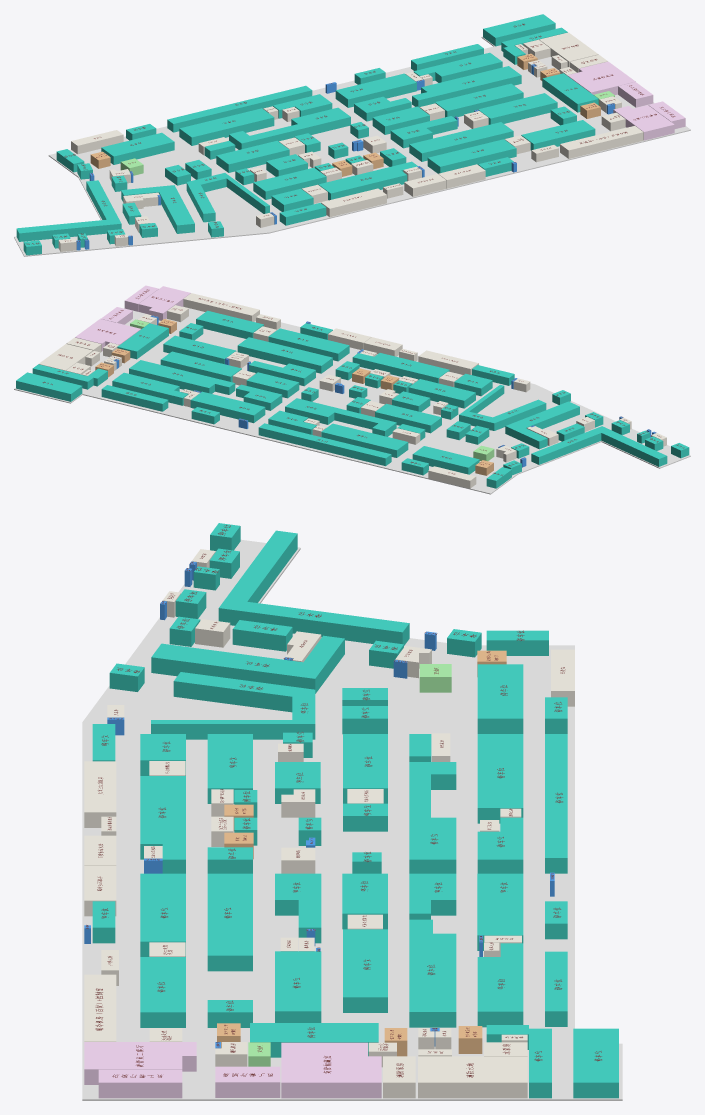
The model's file is 广州万达_-2F.fbx.
3 renders of one model, top to bottom at view 1: azimuth 30°, elevation 25°; view 2: azimuth 150°, elevation 25°; view 3: azimuth 270°, elevation 25°, orthographic. The views are drawn at different scales.
Parts seen in each view (by area): view 1: 停车位, 楼板, 设备房, 员工餐厅、厨房, 卸货区, 储藏室, 强弱电间, 卫生间; view 2: 停车位, 楼板, 设备房, 员工餐厅、厨房, 卸货区, 储藏室, 强弱电间, 卫生间; view 3: 停车位, 楼板, 设备房, 员工餐厅、厨房, 储藏室, 卸货区, 强弱电间, 卫生间.
Part boxes in pixels (x1=…): 停车位: x1=16, y1=14, x2=598, y2=255; 楼板: x1=14, y1=36, x2=690, y2=256; 设备房: x1=58, y1=32, x2=643, y2=251; 员工餐厅、厨房: x1=613, y1=82, x2=685, y2=140; 卸货区: x1=90, y1=53, x2=600, y2=176; 储藏室: x1=567, y1=61, x2=635, y2=94; 强弱电间: x1=76, y1=64, x2=614, y2=250; 卫生间: x1=120, y1=91, x2=614, y2=175; 停车位: x1=16, y1=310, x2=689, y2=488; 楼板: x1=14, y1=306, x2=690, y2=494; 设备房: x1=39, y1=293, x2=666, y2=488; 员工餐厅、厨房: x1=101, y1=285, x2=190, y2=324; 卸货区: x1=95, y1=319, x2=493, y2=475; 储藏室: x1=75, y1=319, x2=140, y2=351; 强弱电间: x1=114, y1=315, x2=656, y2=467; 卫生间: x1=130, y1=319, x2=494, y2=461; 停车位: x1=92, y1=523, x2=618, y2=1098; 楼板: x1=82, y1=539, x2=622, y2=1100; 设备房: x1=84, y1=549, x2=574, y2=1098; 员工餐厅、厨房: x1=84, y1=1042, x2=280, y2=1098; 储藏室: x1=281, y1=1042, x2=381, y2=1098; 卸货区: x1=217, y1=650, x2=506, y2=1056; 强弱电间: x1=84, y1=561, x2=554, y2=1048; 卫生间: x1=248, y1=664, x2=451, y2=1066.
Bounding box in the file's own units: 1111 × 451 × 16.11.
